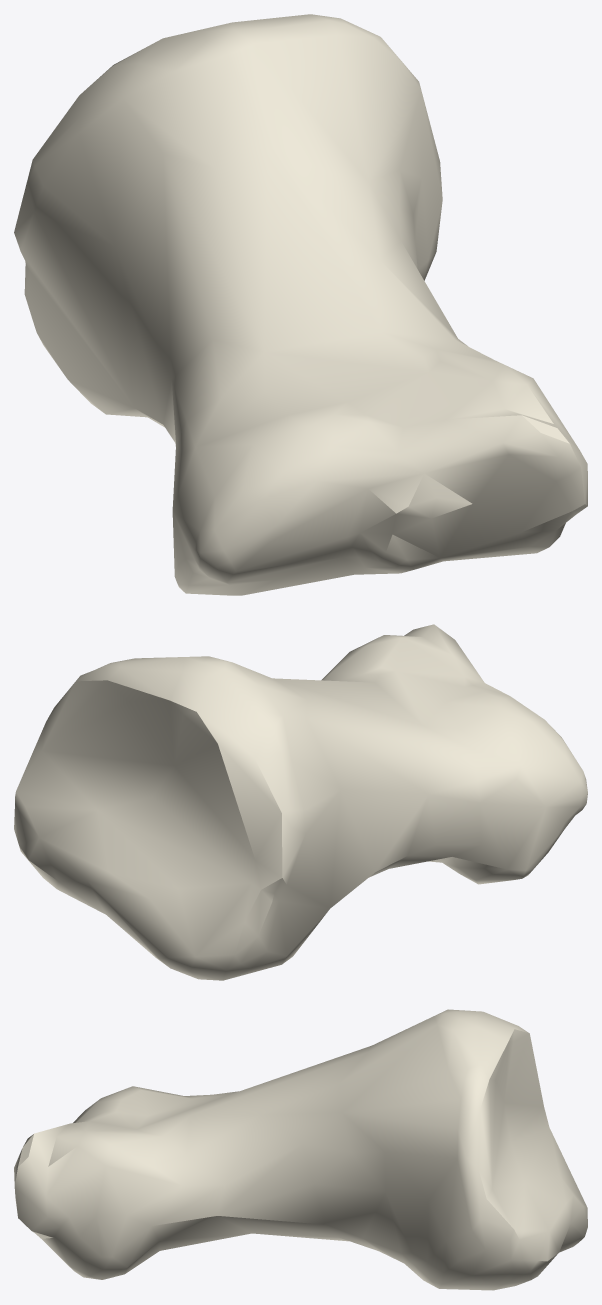
File: fma32642.glb
3 renders of one model, top to bottom at view 1: azimuth 30°, elevation 25°; view 2: azimuth 150°, elevation 25°; view 3: azimuth 270°, elevation 25°, orthographic. The views are drawn at different scales.
Visible parts, largest first — view 1: FMA32642; view 2: FMA32642; view 3: FMA32642.
Boxes of the visible parts, x1=… form: FMA32642: x1=14, y1=14, x2=587, y2=595; FMA32642: x1=14, y1=624, x2=587, y2=980; FMA32642: x1=14, y1=1009, x2=587, y2=1290.
Size of the model in its own units: 0.012 by 0.00888 by 0.0171.
